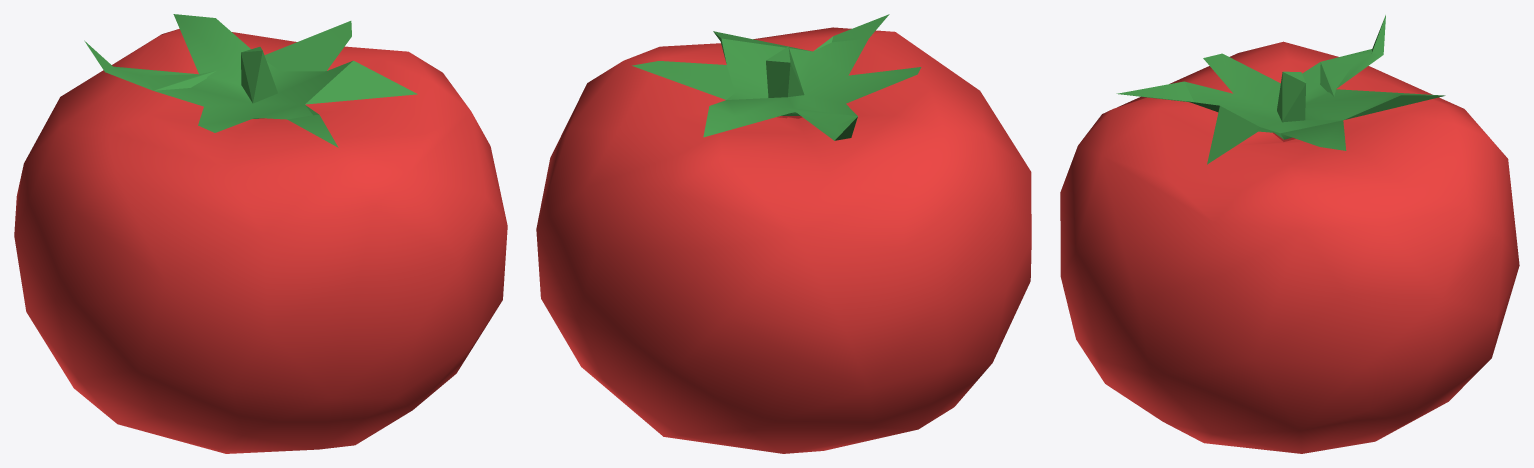
The model's file is fanqie.fbx.
The picture shows the model from 3 angles, left to right: view 1: azimuth 30°, elevation 25°; view 2: azimuth 150°, elevation 25°; view 3: azimuth 270°, elevation 25°; orthographic projection. The views are drawn at different scales.
Visible parts, largest first — view 1: Box016, Box016.001; view 2: Box016, Box016.001; view 3: Box016, Box016.001.
Part boxes in pixels (x1=…): Box016: x1=14, y1=29, x2=507, y2=453; Box016.001: x1=84, y1=14, x2=417, y2=147; Box016: x1=536, y1=27, x2=1031, y2=453; Box016.001: x1=632, y1=14, x2=921, y2=140; Box016: x1=1060, y1=41, x2=1519, y2=453; Box016.001: x1=1116, y1=15, x2=1445, y2=164.
Bounding box in the file's own units: 125 × 105 × 125.
